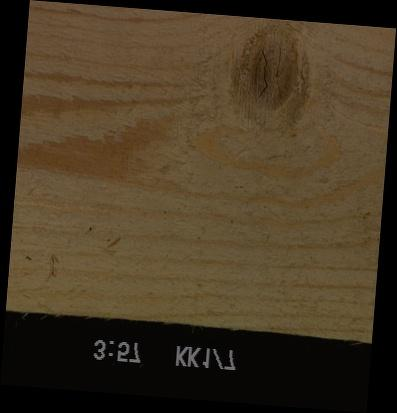sound_knot: (233, 24, 310, 122)
